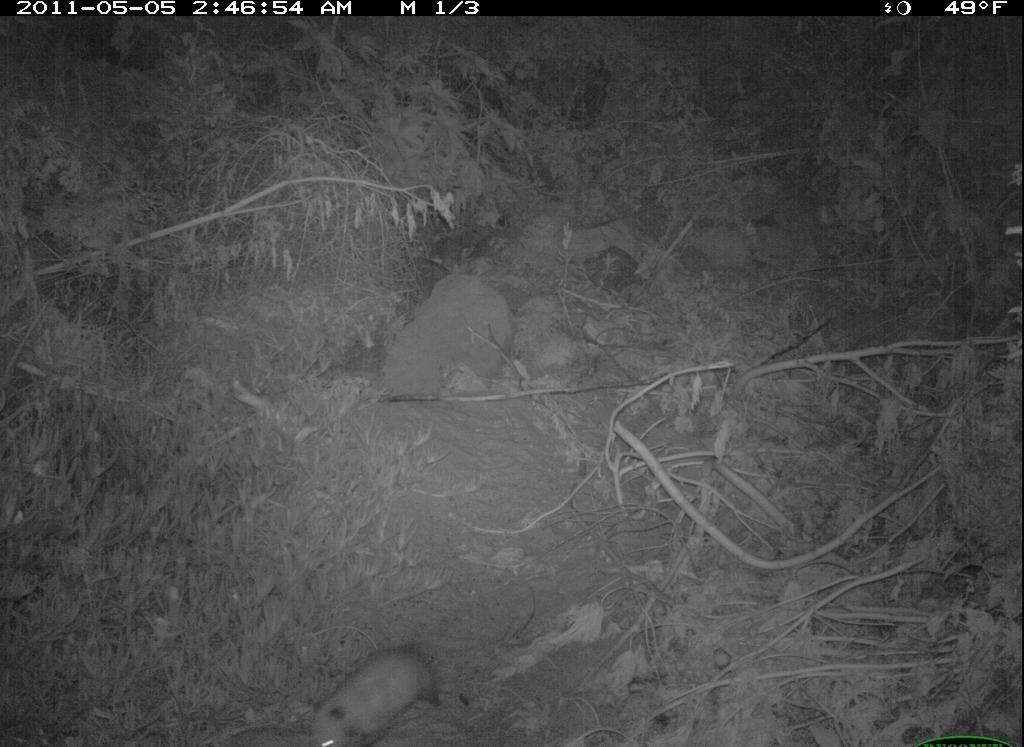opossum: (295, 632, 463, 747)
